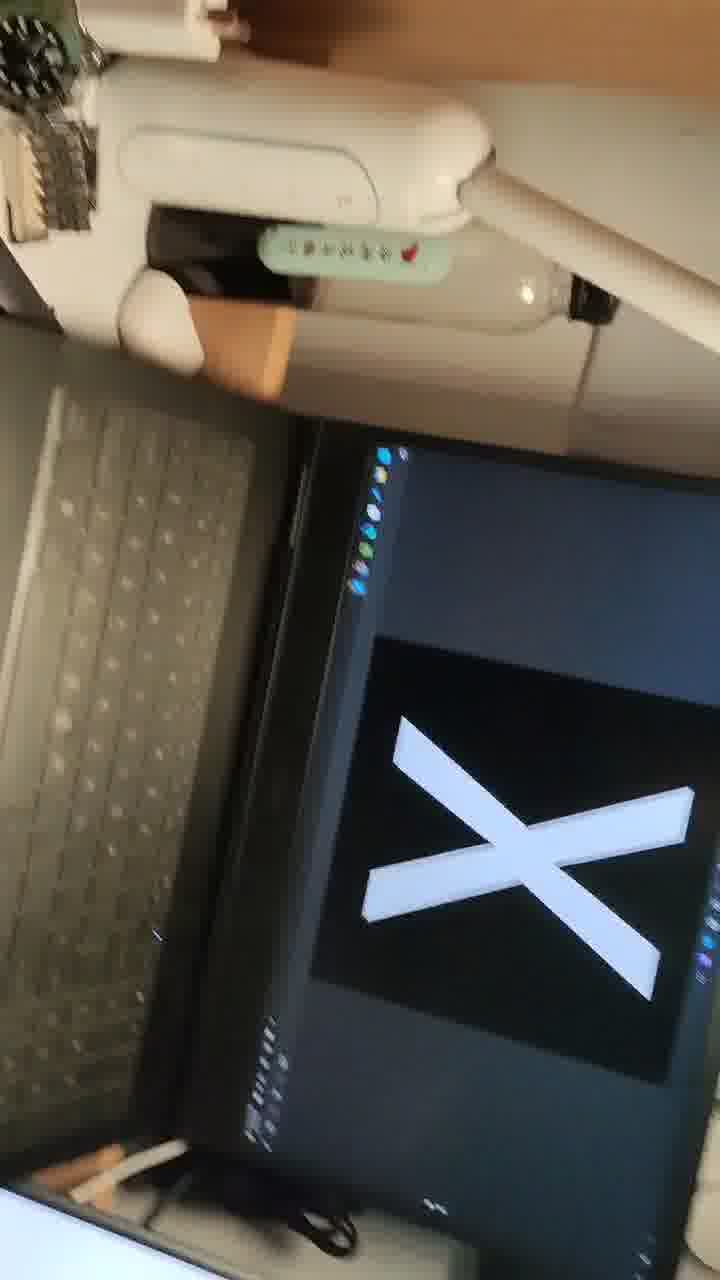X: (315, 638, 720, 1084)
